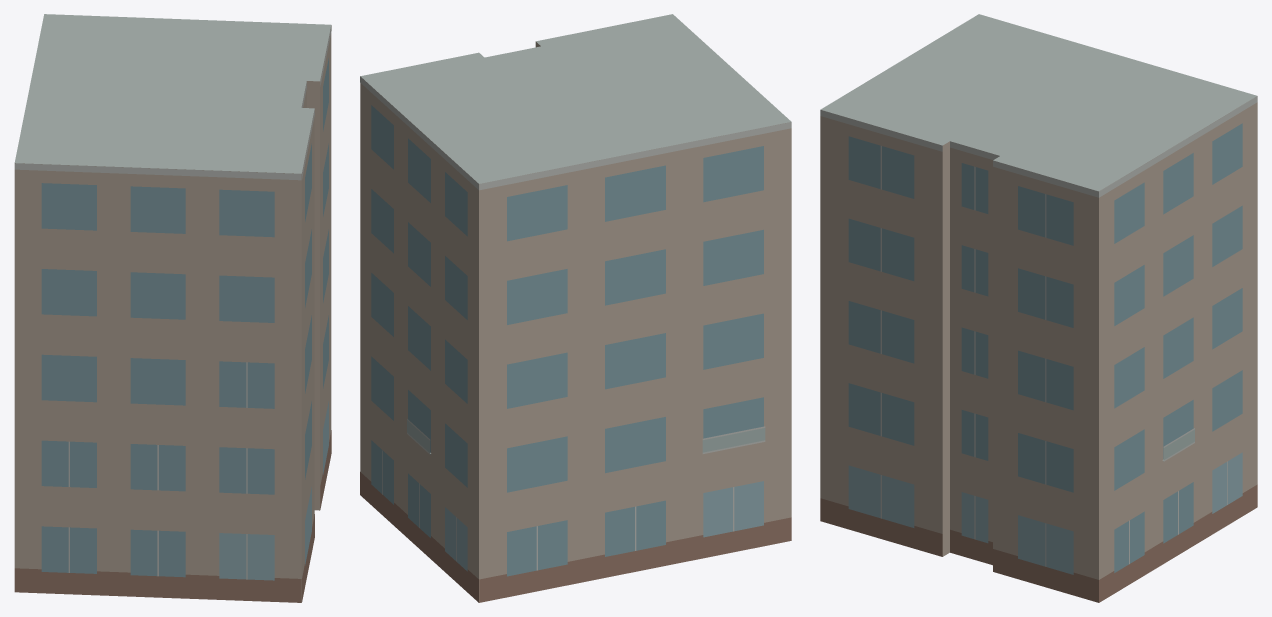
Rendered from survey-upis-32557285.glb.
3 renders of one model, left to right at view 1: azimuth 30°, elevation 25°; view 2: azimuth 150°, elevation 25°; view 3: azimuth 270°, elevation 25°, orthographic. The views are drawn at different scales.
Visible parts, largest first — view 1: survey-upis-32557285.tmp; view 2: survey-upis-32557285.tmp; view 3: survey-upis-32557285.tmp.
Boxes of the visible parts, x1,y1,x2,y2 form: survey-upis-32557285.tmp: [14, 14, 331, 602]; survey-upis-32557285.tmp: [360, 14, 791, 602]; survey-upis-32557285.tmp: [820, 14, 1257, 602].
Size of the model in its own units: 14.81 by 16 by 15.42.
